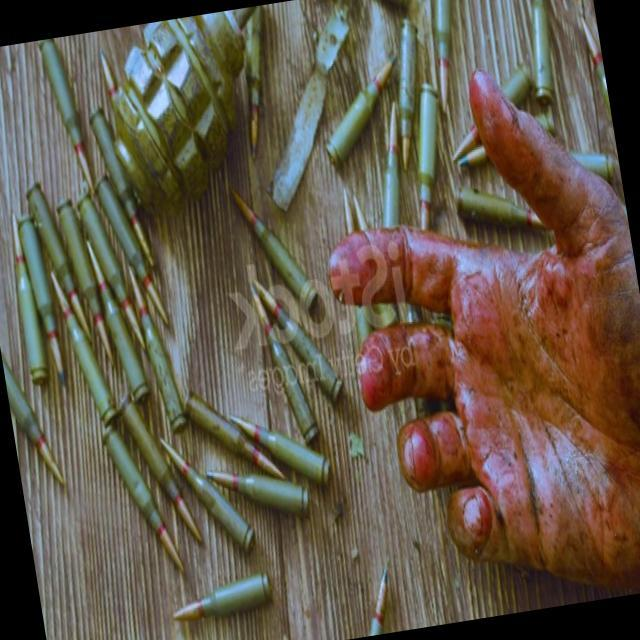grenade: (86, 18, 264, 226)
